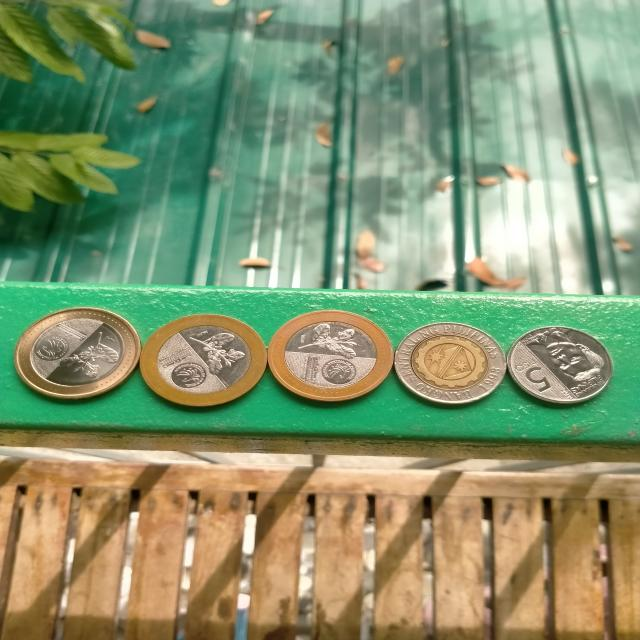10_Old_Back: (395, 324, 498, 402)
20_New_Back: (56, 323, 130, 384), (286, 313, 372, 362), (190, 321, 250, 376)
5_New_Front: (511, 361, 562, 402)
